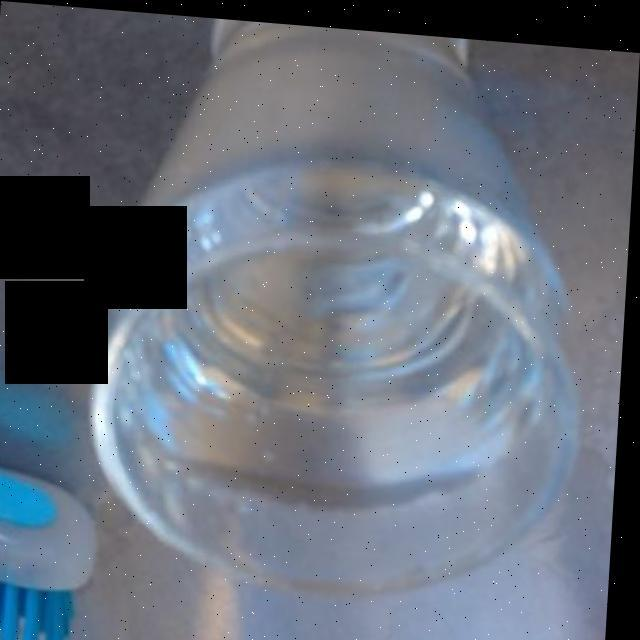water: (119, 38, 572, 518)
